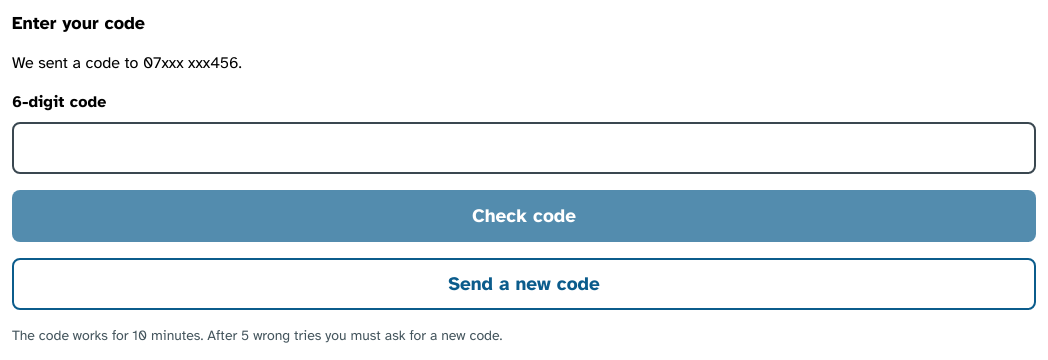
Scenario: CodeEntry › restarts the countdown and calls onResend when the new code is asked for
Click the button "Send a new code" at coordinates (524, 284), box 12,258 -> 1036,310
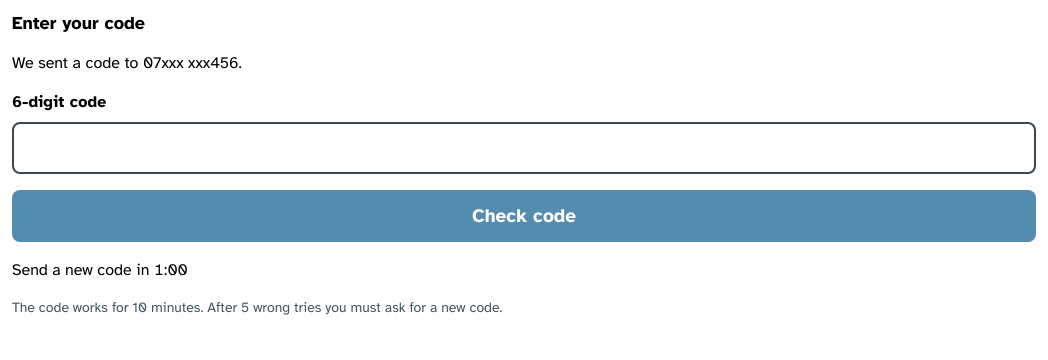
Expected: the text "Send a new code in 1:00" is shown, 12,260 -> 188,280
